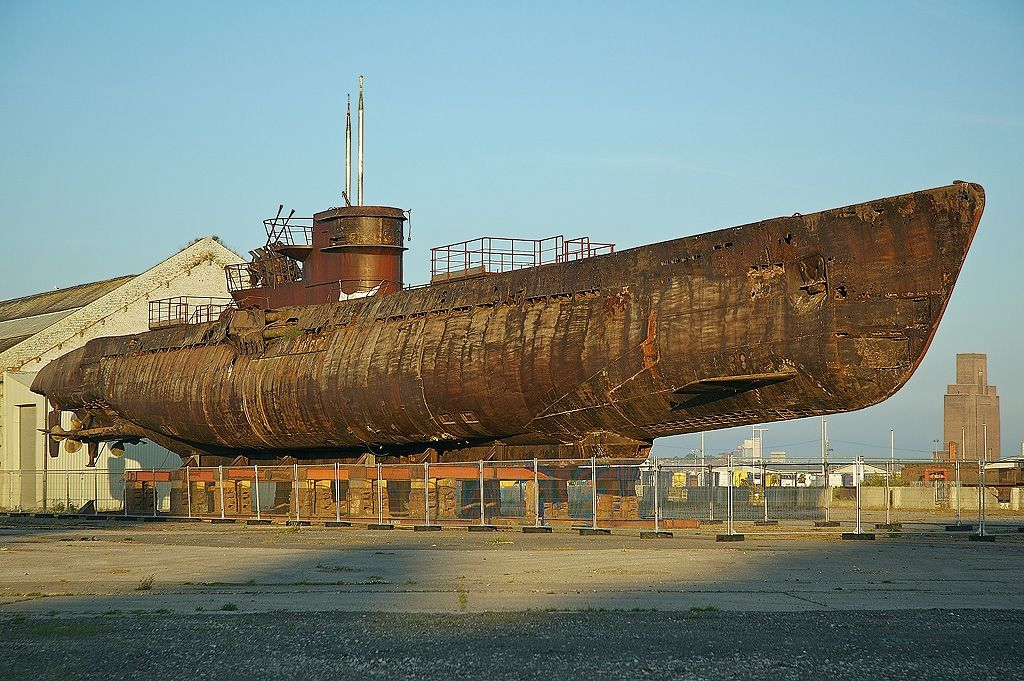rust: (109, 339, 502, 443), (550, 264, 797, 415), (832, 212, 922, 395), (324, 209, 407, 287)
